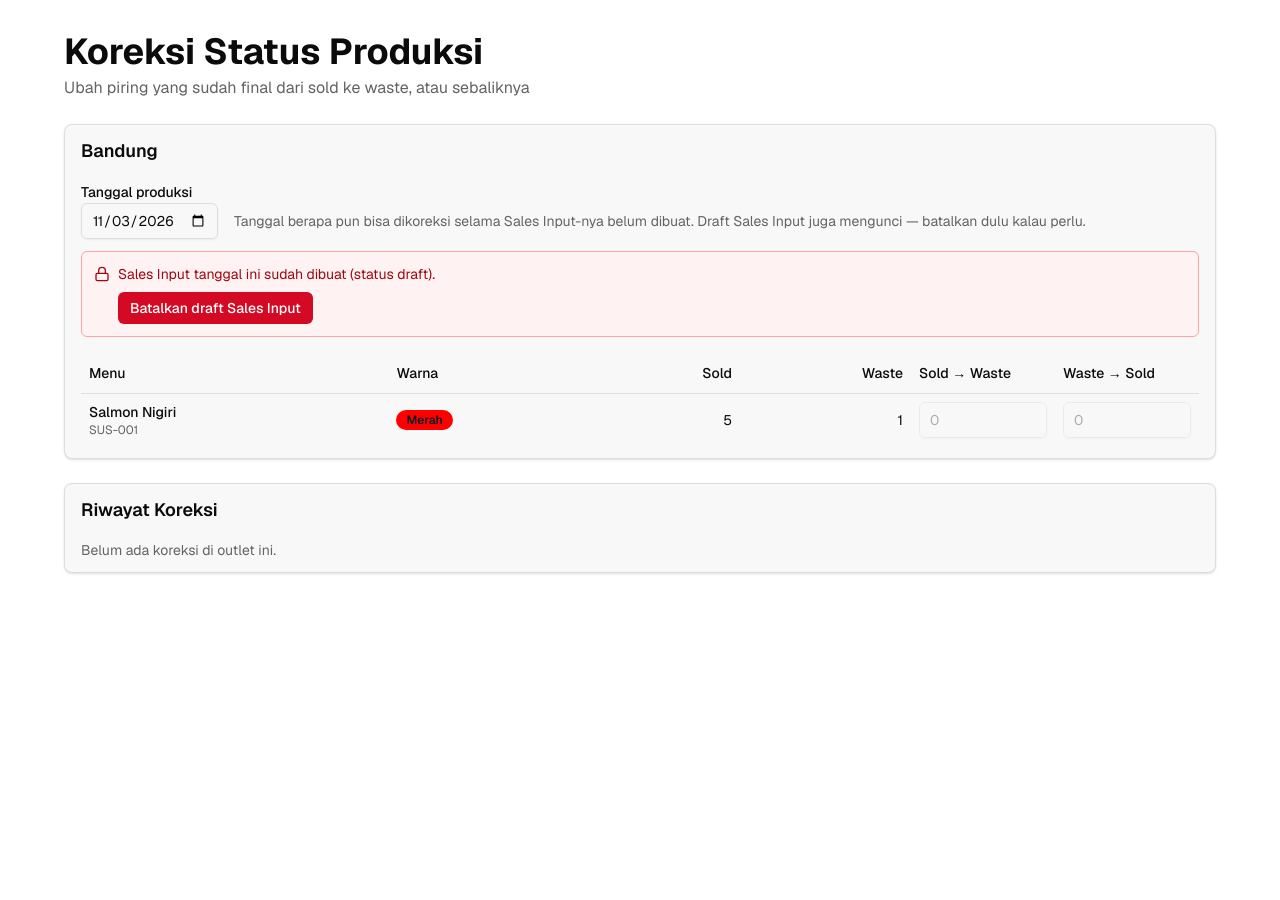
Test: ProductionCorrectionAdmin › draft Sales Input yang mengunci bisa dibatalkan dengan alasan
Later steps or results of the test are not shown.
Click the button "Batalkan draft Sales Input".
click(215, 308)  # box top-left (118, 292), bottom-right (313, 324)
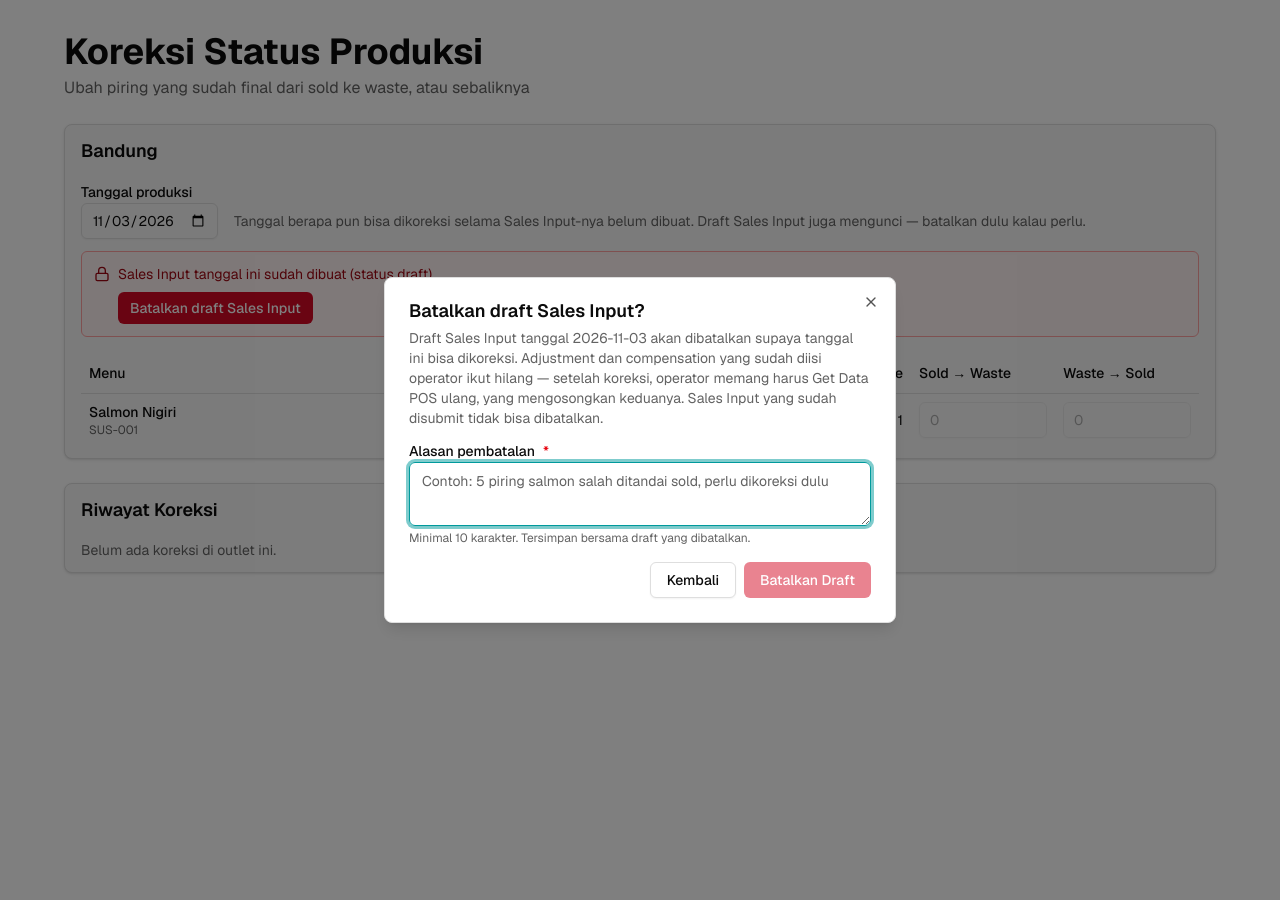
Check: the button "Batalkan Draft" is disabled, box top-left (744, 562), bottom-right (871, 598)
